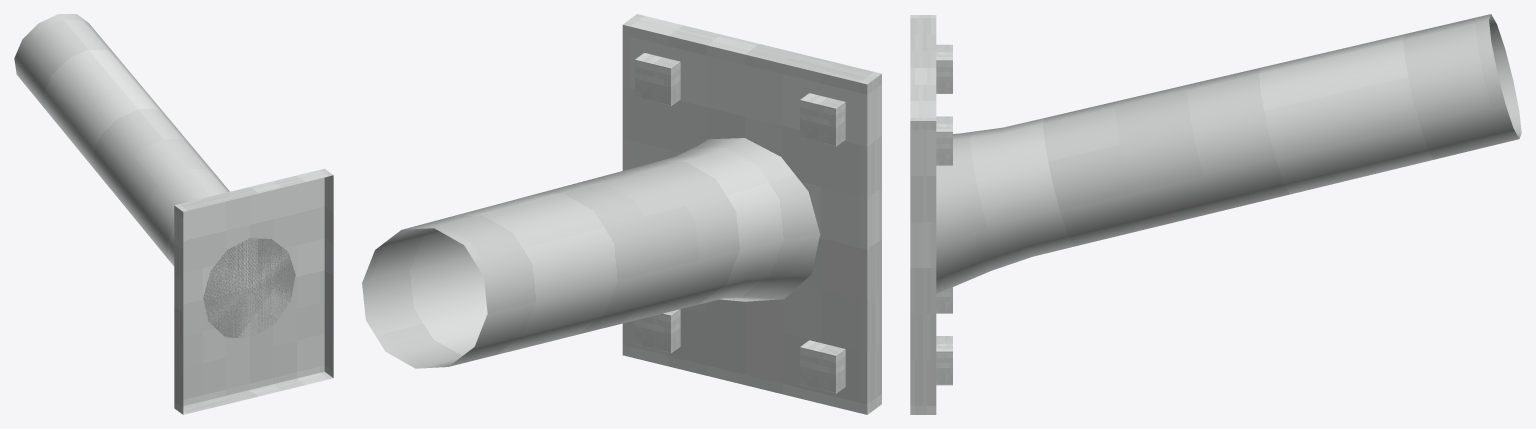
File: luminairearm_caltrans15ftstraight_c0_wall.obj
3 renders of one model, left to right at view 1: azimuth 30°, elevation 25°; view 2: azimuth 150°, elevation 25°; view 3: azimuth 270°, elevation 25°, orthographic. The views are drawn at different scales.
Visible parts, largest first — view 1: luminairearm_caltrans15ftstraight_c0_wall; view 2: luminairearm_caltrans15ftstraight_c0_wall; view 3: luminairearm_caltrans15ftstraight_c0_wall.
Boxes of the visible parts, box(x1,y1,x2,y2) form: luminairearm_caltrans15ftstraight_c0_wall: box(14, 14, 333, 414); luminairearm_caltrans15ftstraight_c0_wall: box(362, 14, 881, 414); luminairearm_caltrans15ftstraight_c0_wall: box(910, 14, 1521, 414).
Bounding box in the file's own units: 0.4222 × 0.6338 × 1.03.
